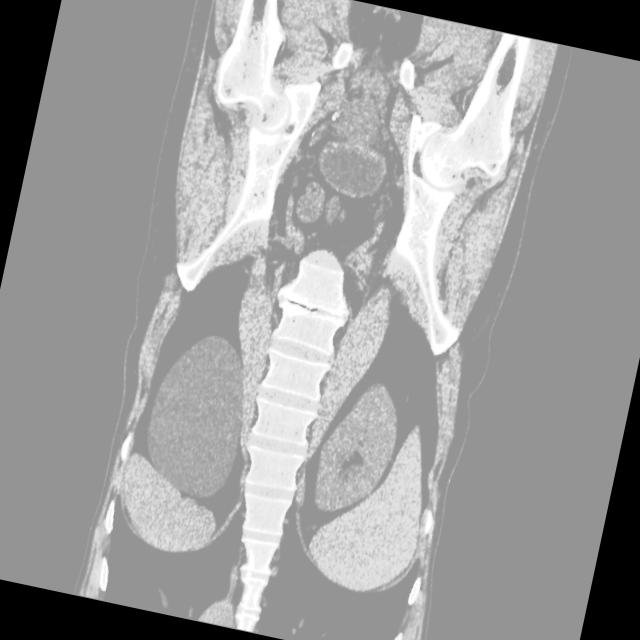cysts: (72, 0, 567, 640)
